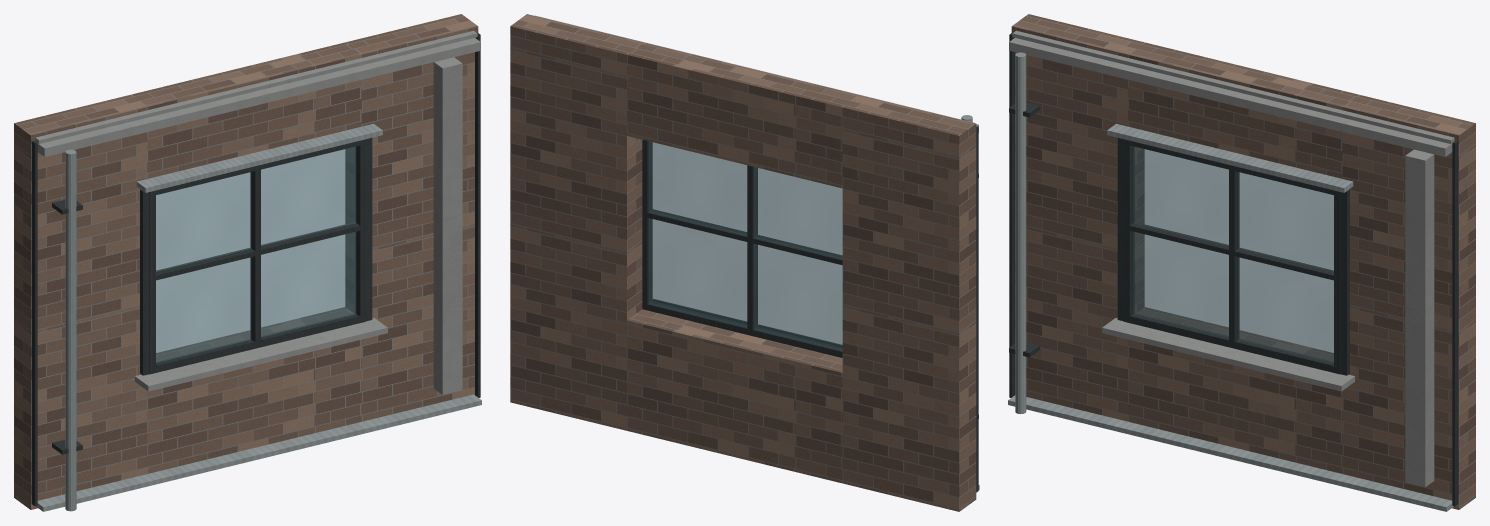
File: PZ_FACADE_4m_Window_Brick_Ground.glb
The picture shows the model from 3 angles, left to right: view 1: azimuth 30°, elevation 25°; view 2: azimuth 150°, elevation 25°; view 3: azimuth 330°, elevation 25°; orthographic projection.
Visible parts, largest first — view 1: F01_B01_Wall_LeftPier, F01_B01_Wall_RightPier, F01_B01_Wall_SillSpandrel, F01_B01_Wall_Header, F01_B01_Brick_Accented_Vertical_Fin, F01_B01_GLASS_BREAKABLE_Left_Lower, F01_B01_GLASS_BREAKABLE_Right_Lower, F01_B01_GLASS_BREAKABLE_Left_Upper, F01_B01_GLASS_BREAKABLE_Right_Upper, F01_B01_FireStop_StoreyBand, F01_B01_Facade_BaseFlashing, F01_B01_DOWNSPOUT_RoundPipe (+13 smaller); view 2: F01_B01_Wall_LeftPier, F01_B01_Wall_RightPier, F01_B01_Wall_SillSpandrel, F01_B01_Wall_Header, F01_B01_GLASS_BREAKABLE_Right_Lower, F01_B01_GLASS_BREAKABLE_Left_Lower, F01_B01_GLASS_BREAKABLE_Right_Upper, F01_B01_GLASS_BREAKABLE_Left_Upper, F01_B01_Window_Frame_Bottom, F01_B01_Window_Crossbar, F01_B01_Window_Frame_Right, F01_B01_Window_Mullion (+1 smaller); view 3: F01_B01_Wall_LeftPier, F01_B01_Wall_RightPier, F01_B01_Wall_SillSpandrel, F01_B01_Wall_Header, F01_B01_Brick_Accented_Vertical_Fin, F01_B01_GLASS_BREAKABLE_Right_Lower, F01_B01_GLASS_BREAKABLE_Left_Lower, F01_B01_GLASS_BREAKABLE_Left_Upper, F01_B01_GLASS_BREAKABLE_Right_Upper, F01_B01_FireStop_StoreyBand, F01_B01_Facade_BaseFlashing, F01_B01_DOWNSPOUT_RoundPipe (+13 smaller).
Boxes of the visible parts, x1=… form: F01_B01_Wall_LeftPier: x1=14, y1=95, x2=147, y2=509; F01_B01_Wall_RightPier: x1=345, y1=14, x2=478, y2=421; F01_B01_Wall_SillSpandrel: x1=147, y1=307, x2=361, y2=473; F01_B01_Wall_Header: x1=130, y1=42, x2=361, y2=178; F01_B01_Brick_Accented_Vertical_Fin: x1=433, y1=57, x2=462, y2=394; F01_B01_GLASS_BREAKABLE_Left_Lower: x1=156, y1=257, x2=251, y2=362; F01_B01_GLASS_BREAKABLE_Right_Lower: x1=261, y1=232, x2=356, y2=337; F01_B01_GLASS_BREAKABLE_Left_Upper: x1=156, y1=172, x2=251, y2=271; F01_B01_GLASS_BREAKABLE_Right_Upper: x1=261, y1=146, x2=356, y2=245; F01_B01_FireStop_StoreyBand: x1=37, y1=38, x2=480, y2=156; F01_B01_Facade_BaseFlashing: x1=36, y1=394, x2=481, y2=511; F01_B01_DOWNSPOUT_RoundPipe: x1=65, y1=149, x2=76, y2=511; F01_B01_Wall_LeftPier: x1=842, y1=95, x2=976, y2=511; F01_B01_Wall_RightPier: x1=510, y1=14, x2=643, y2=430; F01_B01_Wall_SillSpandrel: x1=627, y1=309, x2=842, y2=483; F01_B01_Wall_Header: x1=627, y1=42, x2=858, y2=188; F01_B01_GLASS_BREAKABLE_Right_Lower: x1=649, y1=218, x2=747, y2=326; F01_B01_GLASS_BREAKABLE_Left_Lower: x1=754, y1=244, x2=842, y2=350; F01_B01_GLASS_BREAKABLE_Right_Upper: x1=649, y1=141, x2=747, y2=235; F01_B01_GLASS_BREAKABLE_Left_Upper: x1=754, y1=167, x2=842, y2=258; F01_B01_Window_Frame_Bottom: x1=642, y1=301, x2=842, y2=357; F01_B01_Window_Crossbar: x1=647, y1=209, x2=842, y2=265; F01_B01_Window_Frame_Right: x1=642, y1=139, x2=652, y2=310; F01_B01_Window_Mullion: x1=747, y1=165, x2=757, y2=329; F01_B01_Wall_LeftPier: x1=1011, y1=14, x2=1144, y2=421; F01_B01_Wall_RightPier: x1=1342, y1=95, x2=1475, y2=509; F01_B01_Wall_SillSpandrel: x1=1128, y1=307, x2=1342, y2=473; F01_B01_Wall_Header: x1=1128, y1=42, x2=1359, y2=178; F01_B01_Brick_Accented_Vertical_Fin: x1=1405, y1=149, x2=1434, y2=487; F01_B01_GLASS_BREAKABLE_Right_Lower: x1=1238, y1=257, x2=1333, y2=362; F01_B01_GLASS_BREAKABLE_Left_Lower: x1=1133, y1=232, x2=1228, y2=337; F01_B01_GLASS_BREAKABLE_Left_Upper: x1=1133, y1=146, x2=1228, y2=245; F01_B01_GLASS_BREAKABLE_Right_Upper: x1=1238, y1=172, x2=1333, y2=271; F01_B01_FireStop_StoreyBand: x1=1009, y1=38, x2=1452, y2=156; F01_B01_Facade_BaseFlashing: x1=1008, y1=395, x2=1453, y2=511; F01_B01_DOWNSPOUT_RoundPipe: x1=1015, y1=52, x2=1026, y2=413.
Size of the model in its own units: 4 by 3.2 by 0.543.
5 materials, 5 textured.
